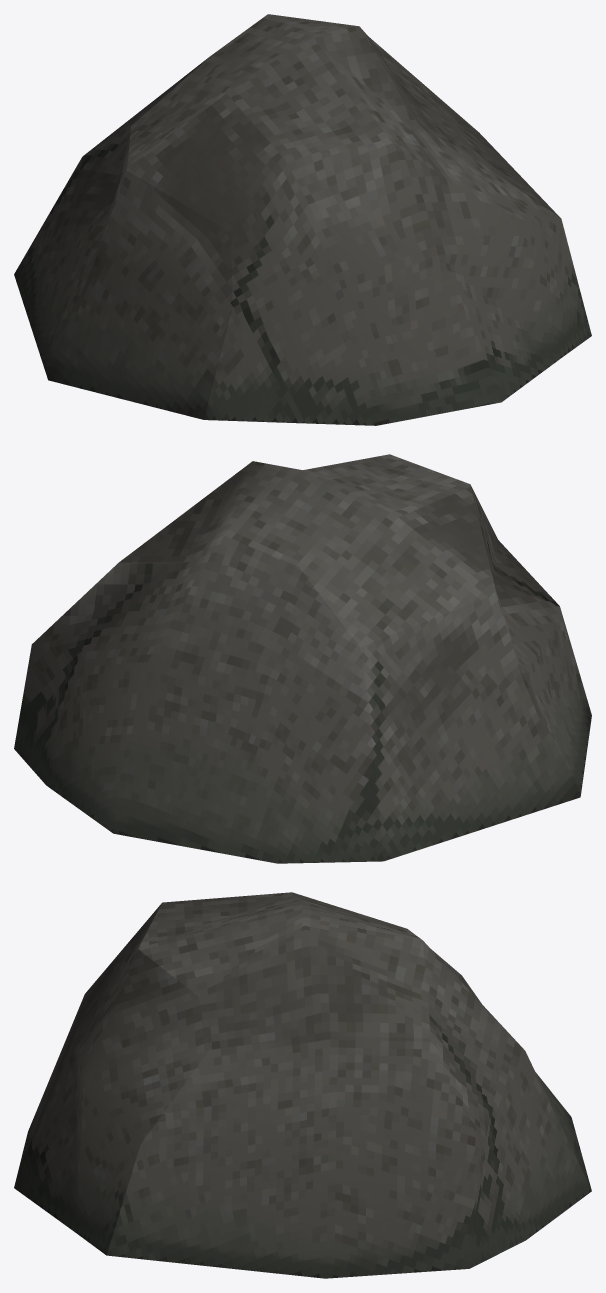
The model's file is rock1.fbx.
3 views of the same model, one above another, from view 1: azimuth 30°, elevation 25°; view 2: azimuth 150°, elevation 25°; view 3: azimuth 270°, elevation 25° (orthographic). The views are drawn at different scales.
Parts seen in each view (by area): view 1: rock1; view 2: rock1; view 3: rock1.
Boxes of the visible parts, x1=… form: rock1: x1=14, y1=14, x2=591, y2=425; rock1: x1=14, y1=454, x2=591, y2=863; rock1: x1=14, y1=892, x2=591, y2=1278.
Size of the model in its own units: 3.52 by 1.82 by 3.62.
